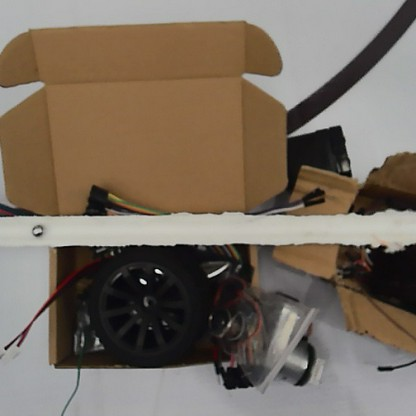ironball: (29, 222, 45, 238)
